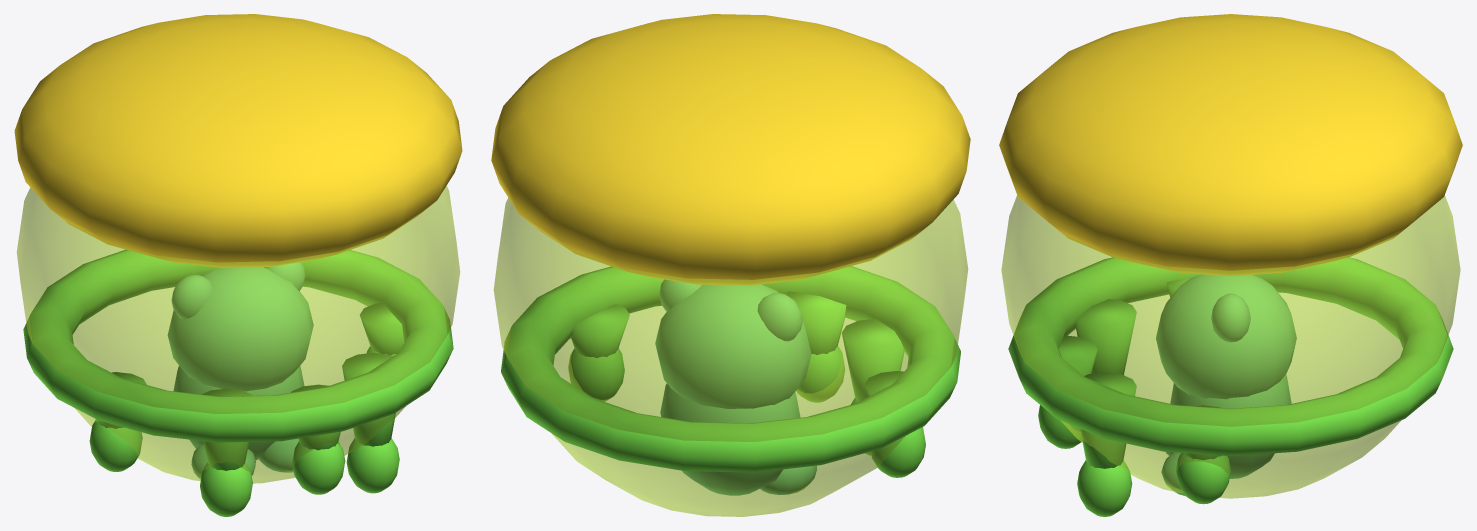
File: SM_StickyCapsule.fbx
3 views of the same model, side by side, from view 1: azimuth 30°, elevation 25°; view 2: azimuth 150°, elevation 25°; view 3: azimuth 270°, elevation 25° (orthographic). The views are drawn at different scales.
Visible parts, largest first — view 1: SM_StickyCapsule; view 2: SM_StickyCapsule; view 3: SM_StickyCapsule.
Part boxes in pixels (bbox=[...]): SM_StickyCapsule: bbox=[14, 14, 462, 516]; SM_StickyCapsule: bbox=[491, 14, 970, 516]; SM_StickyCapsule: bbox=[999, 14, 1462, 516].
Bounding box in the file's own units: 2.02 × 2.02 × 2.02.
